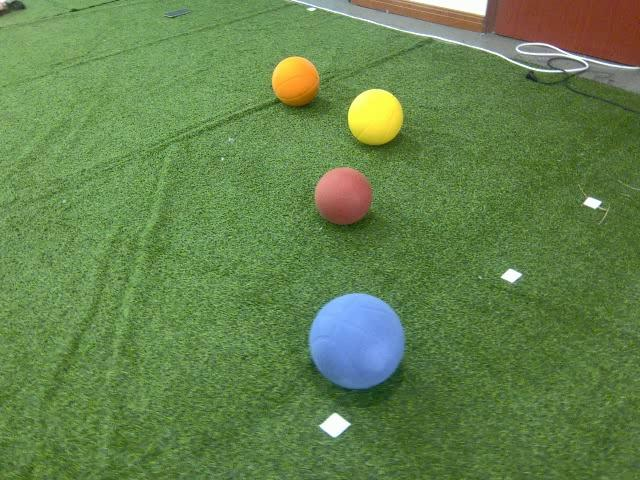blue_ball: (306, 292, 408, 390)
orange_ball: (270, 56, 320, 108)
red_ball: (313, 166, 373, 225)
yellow_ball: (347, 88, 404, 145)
